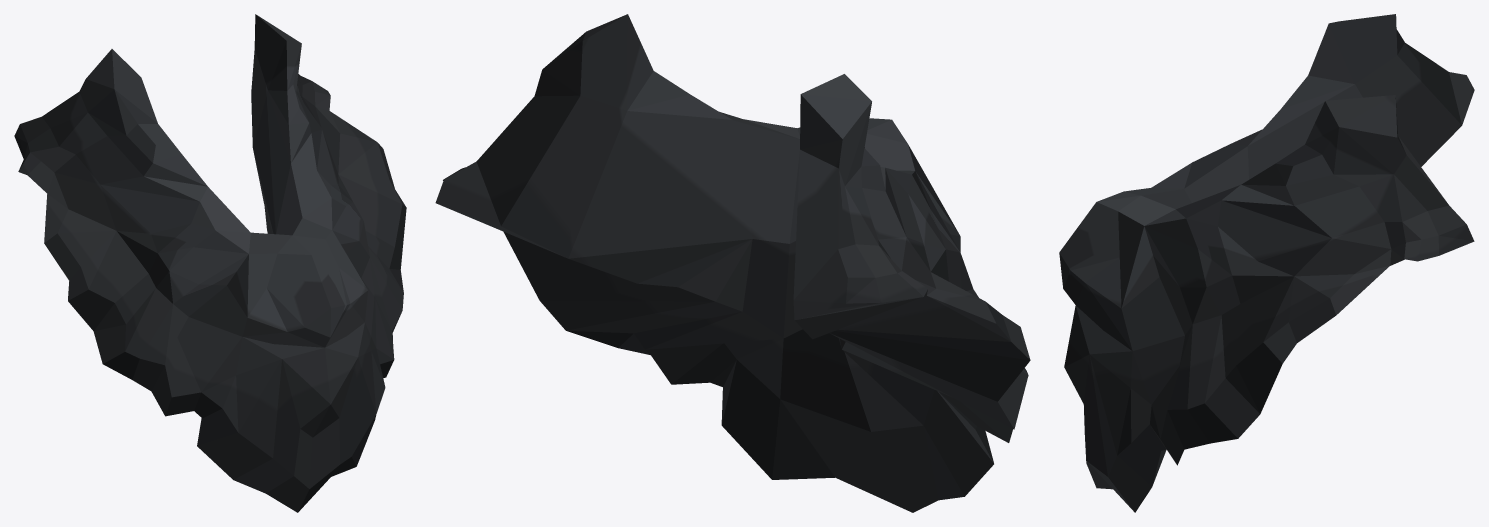
The model's file is SM_Chr_Attach_Beard_02.fbx.
The picture shows the model from 3 angles, left to right: view 1: azimuth 30°, elevation 25°; view 2: azimuth 150°, elevation 25°; view 3: azimuth 270°, elevation 25°; orthographic projection. The views are drawn at different scales.
Parts seen in each view (by area): view 1: SM_Chr_Attach_Beard_02; view 2: SM_Chr_Attach_Beard_02; view 3: SM_Chr_Attach_Beard_02.
Boxes of the visible parts, box(x1,y1,x2,y2) form: SM_Chr_Attach_Beard_02: box(14, 14, 406, 512); SM_Chr_Attach_Beard_02: box(435, 14, 1030, 512); SM_Chr_Attach_Beard_02: box(1059, 14, 1474, 512).
Size of the model in its own units: 32.49 by 34.62 by 29.45.
